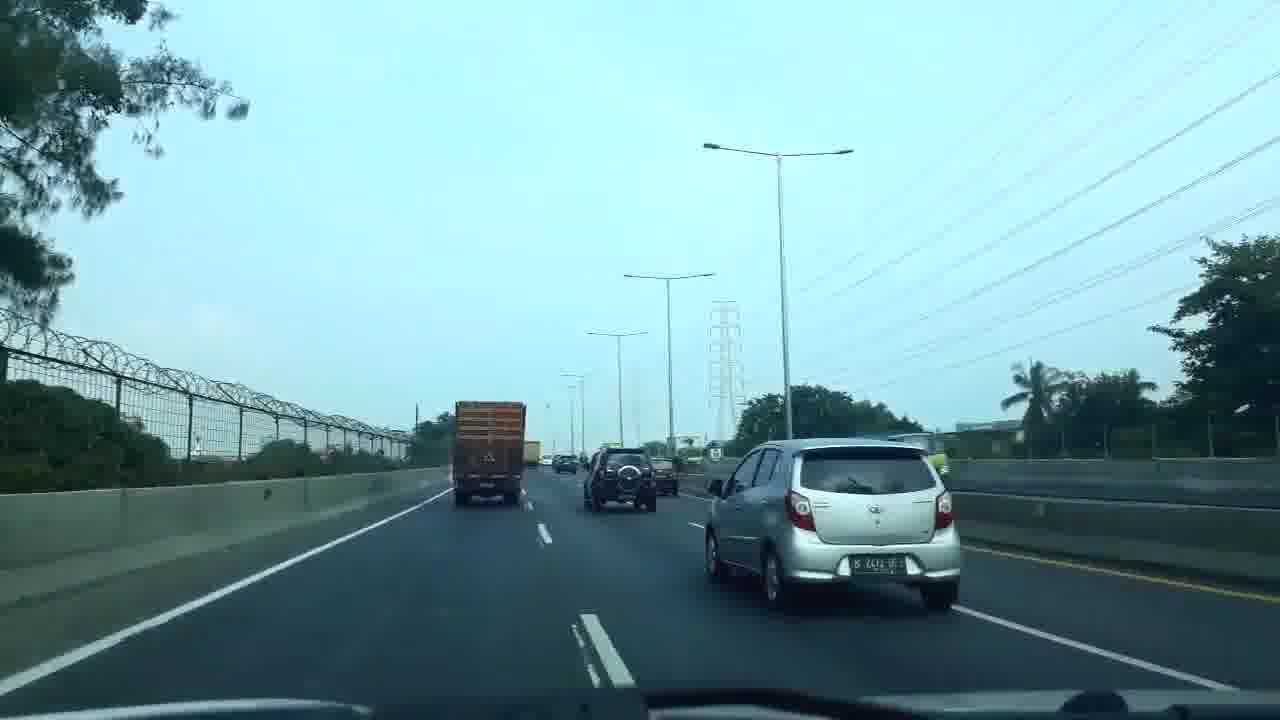plate_positive: (848, 555, 907, 576)
